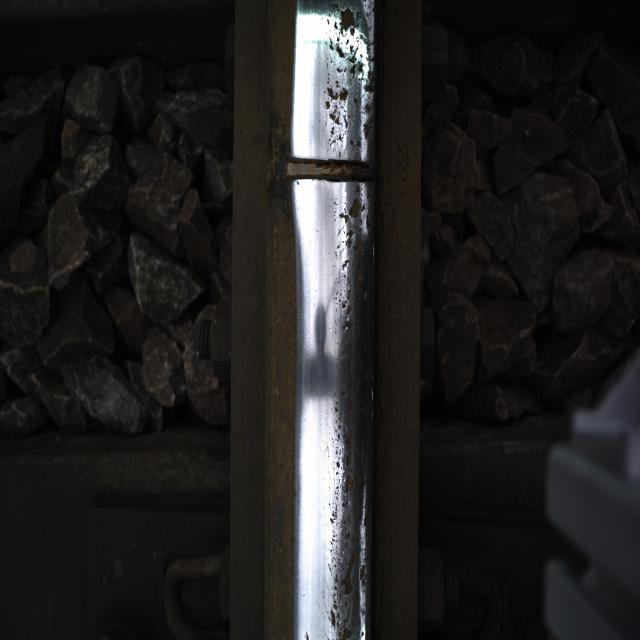spalling: (272, 128, 393, 218)
